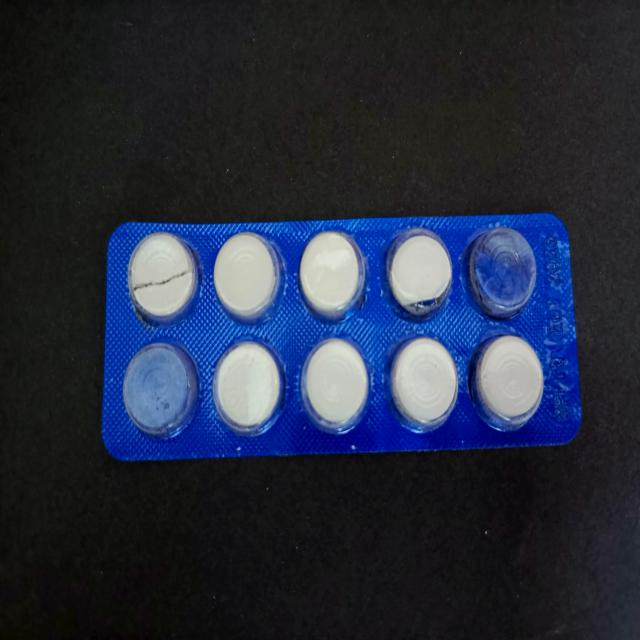defect: (121, 340, 203, 442), (124, 230, 202, 328), (465, 224, 540, 322), (382, 226, 455, 320)
